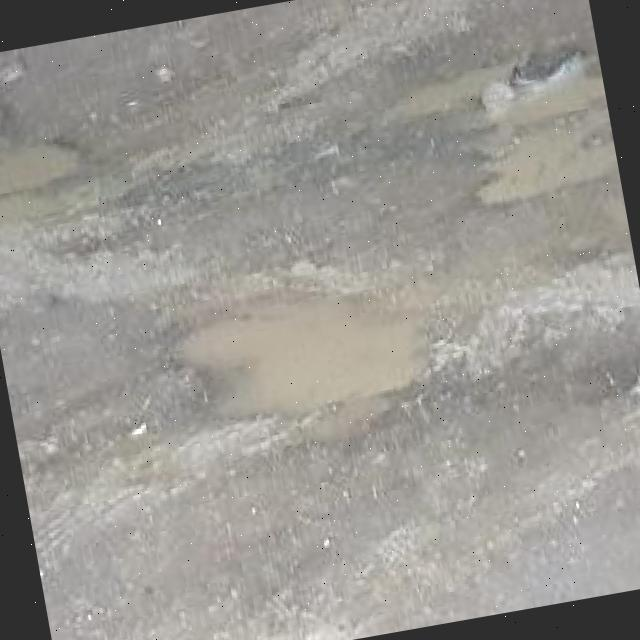stagnation: (148, 248, 457, 457), (408, 22, 624, 231), (0, 29, 169, 218)
